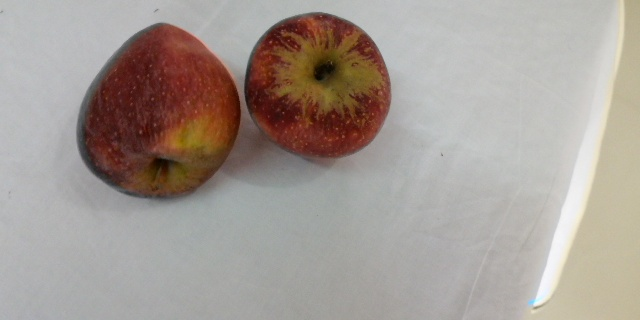apple_kashmir: (80, 21, 241, 201), (244, 9, 395, 162)
